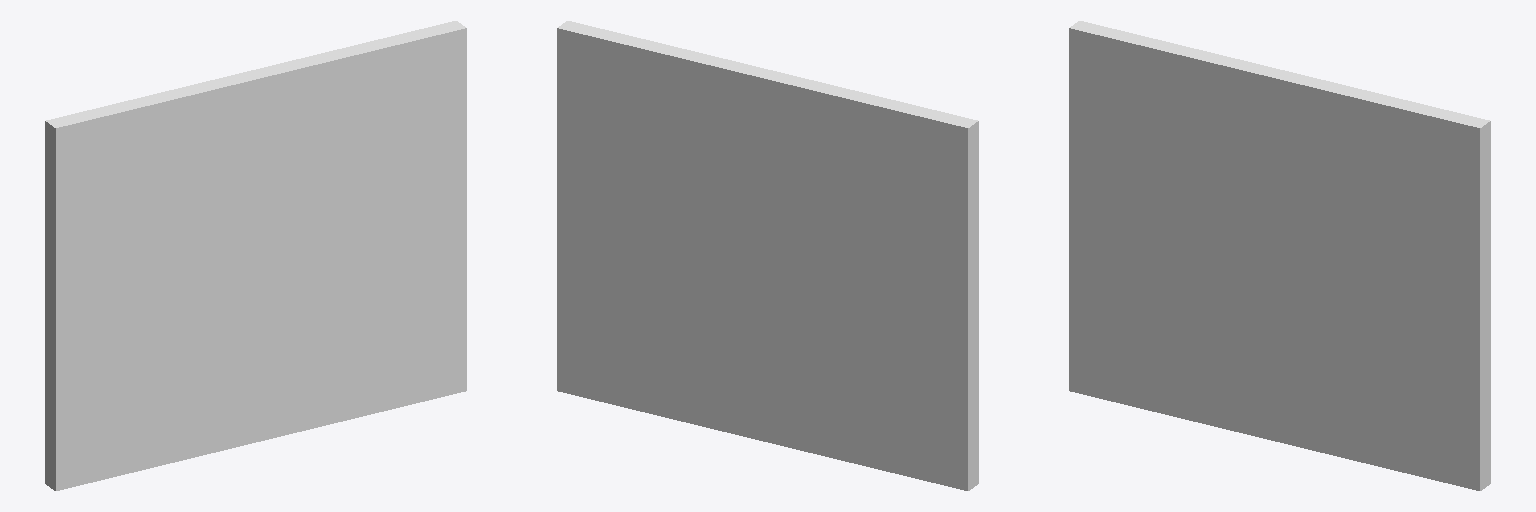
robot.urdf — room602-external-wall-1:
<?xml version="1.0"?>
<robot name="room602-external-wall-1"
       xmlns:xi="http://www.w3.org/2001/XInclude">
  <gazebo>
    <static>false</static>
  </gazebo>
  <link name="nil_link">
    <visual>
      <origin xyz="0 0 0" rpy="0 -0 0"/>
      <geometry>
        <mesh filename="model://room602-external-wall-1/meshes/nil_link_mesh.dae" scale="1 1 1" />
      </geometry>
    </visual>
    <collision>
      <origin xyz="0 0 0" rpy="0 -0 0"/>
      <geometry>
        <mesh filename="model://room602-external-wall-1/meshes/nil_link_mesh.dae" scale="1 1 1" />
      </geometry>
    </collision>
    <inertial>
      <mass value="0.001" />
      <origin xyz="0 0 0" rpy="0 -0 0"/>
      <inertia ixx="1e-03" ixy="0" ixz="0" iyy="1e-03" iyz="0" izz="1e-03"/>
    </inertial>
  </link>
  <gazebo reference="nil_link">
    <mu1>0.9</mu1>
    <mu2>0.9</mu2>
  </gazebo>
</robot>

--- What the picture shows (computed from the rendered views, not written in the file) ---
3 views of the same robot in one strip: view 1: azimuth 30°, elevation 25°; view 2: azimuth 150°, elevation 25°; view 3: azimuth 330°, elevation 25° (orthographic).
Robot: room602-external-wall-1 — 1 links, 0 joints (none); root link nil_link; default pose: every joint at zero.
Visible links, largest first — view 1: nil_link; view 2: nil_link; view 3: nil_link.
Link boxes in pixels (<box>): nil_link: <box>45,21,466,490</box>; nil_link: <box>557,21,978,490</box>; nil_link: <box>1069,21,1490,490</box>.
Size in the robot's own frame: 3.2 by 0.14 by 2.7 metres.
1 mesh visuals loaded from 1 distinct referenced files (1 Collada DAE).